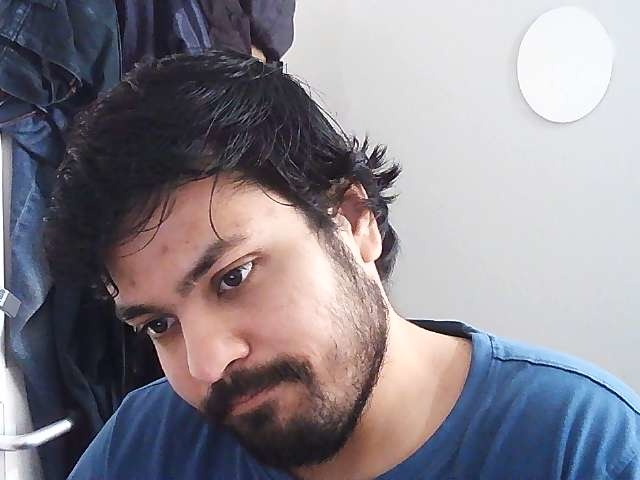Face: (43, 50, 426, 459)
